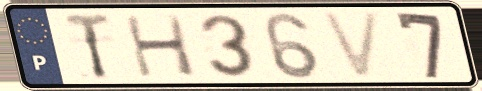3: (196, 12, 256, 79)
6: (262, 9, 323, 81)
7: (392, 9, 446, 81)
H: (120, 13, 200, 79)
T: (60, 11, 114, 82)
V: (317, 9, 385, 81)
